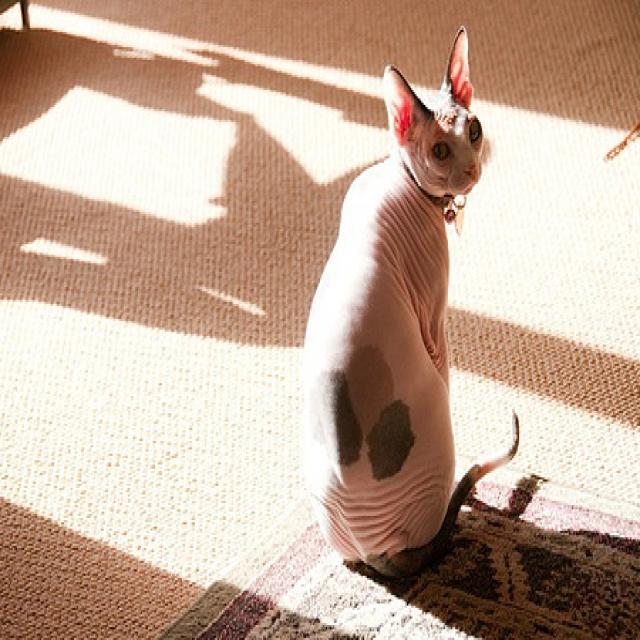Sphynx: (300, 24, 522, 580)
